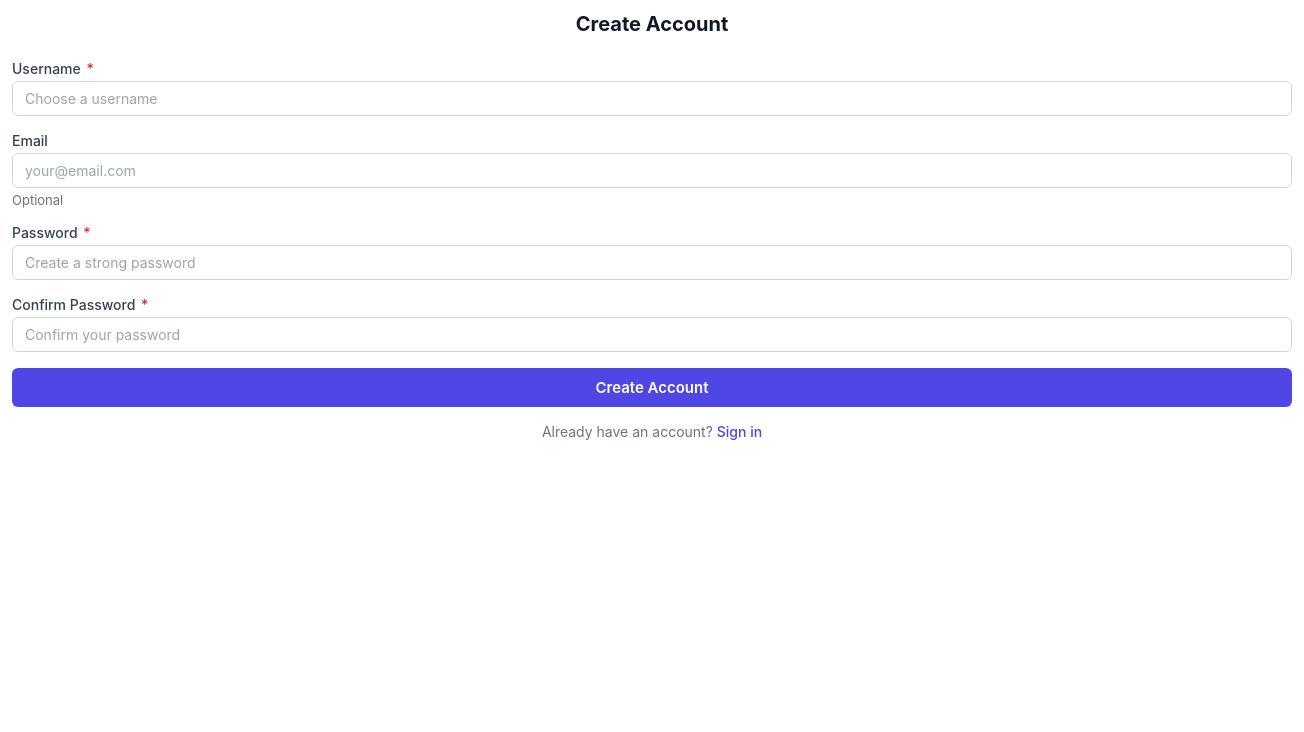
Test: SignUpPage › displays error on duplicate username
Type "existinguser" into the field with placeholder "Choose a username". click: (652, 98)
box: left=12, top=81, right=1292, bottom=116
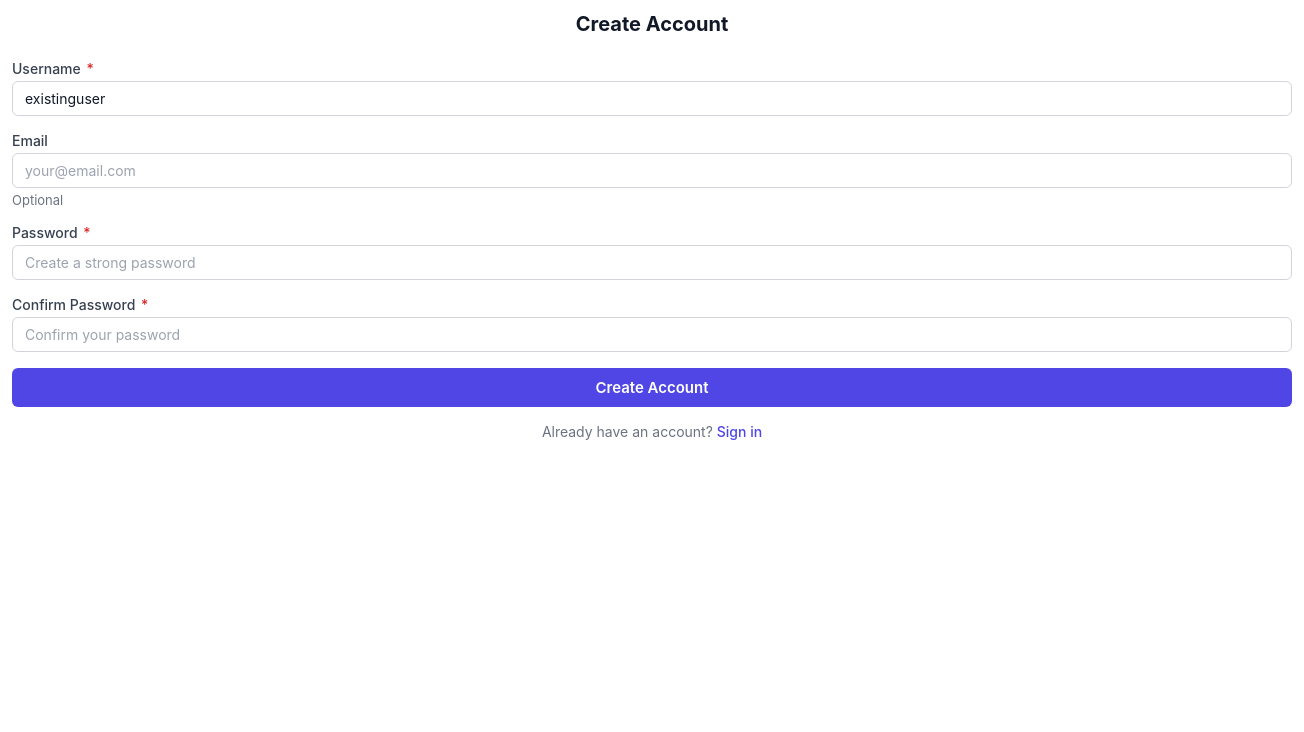
Type "StrongPass1" into the password field with placeholder "Create a strong password". click: (652, 262)
box: left=12, top=245, right=1292, bottom=280
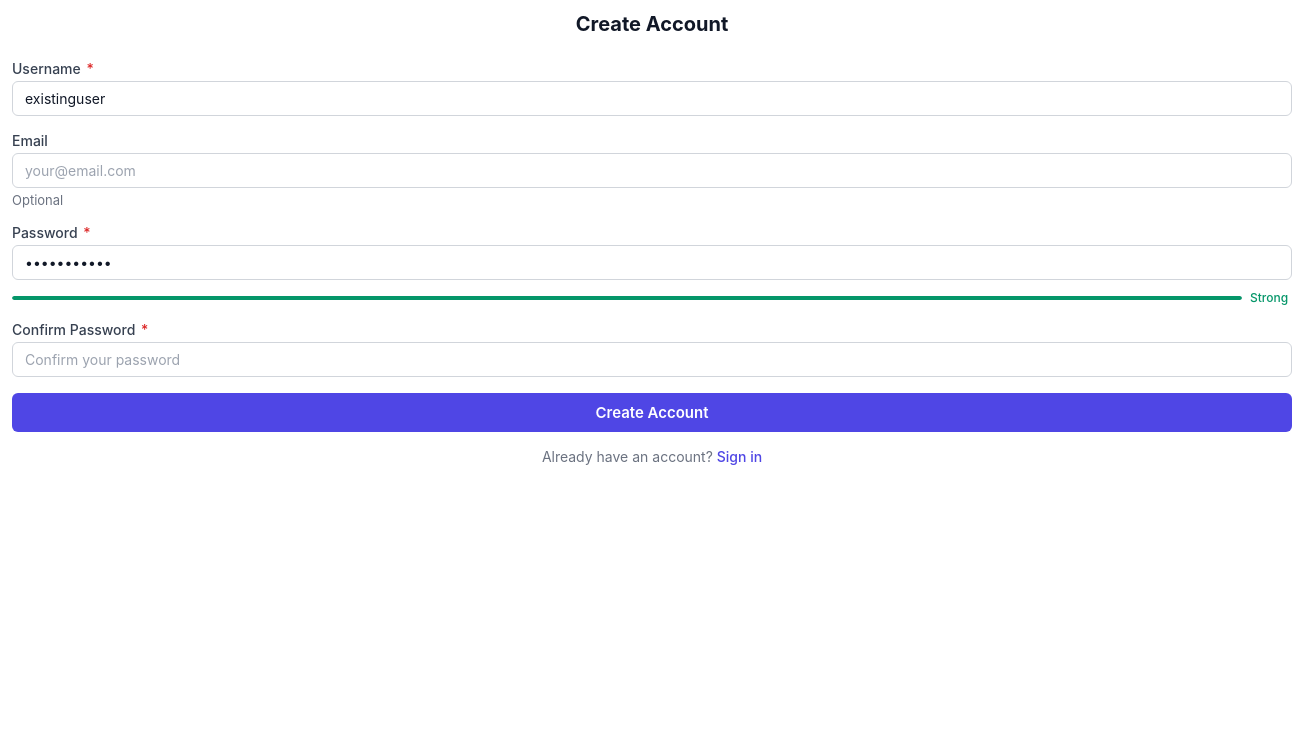
Type "StrongPass1" into the password field with placeholder "Confirm your password". click: (652, 360)
box: left=12, top=342, right=1292, bottom=377
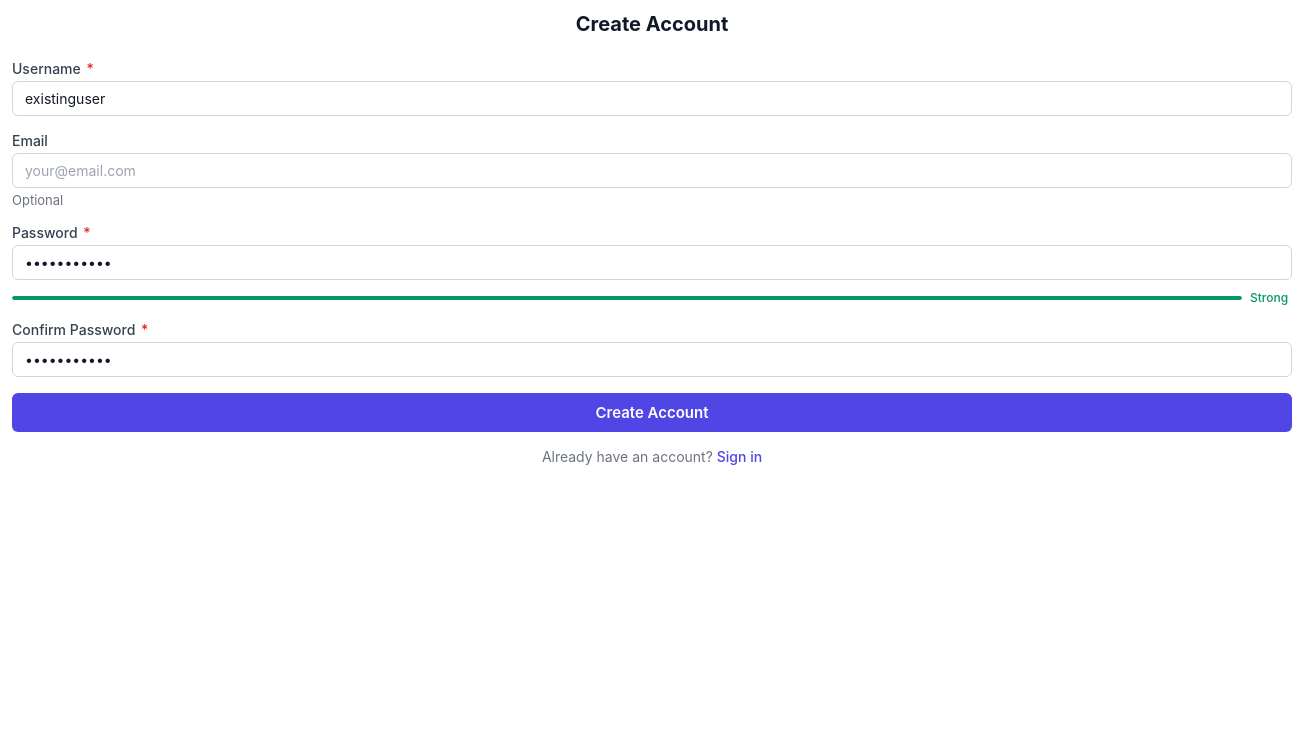
Submit the form, box left=12, top=60, right=1292, bottom=465
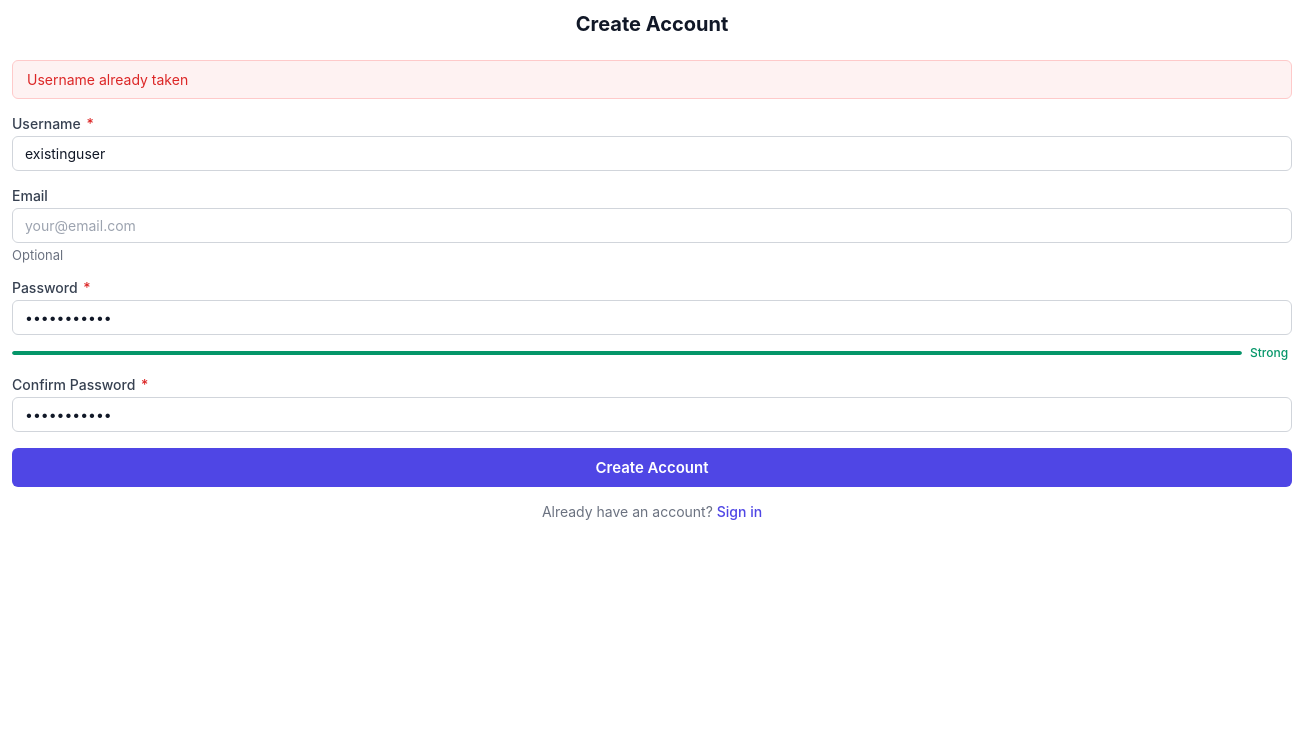
Now the text "Username already taken" is shown, box left=12, top=60, right=1292, bottom=99
